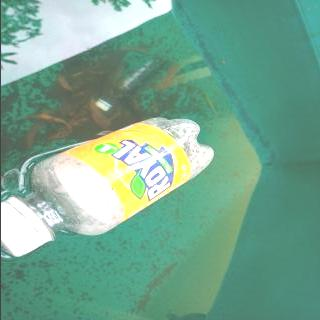bottle: (0, 119, 214, 257)
